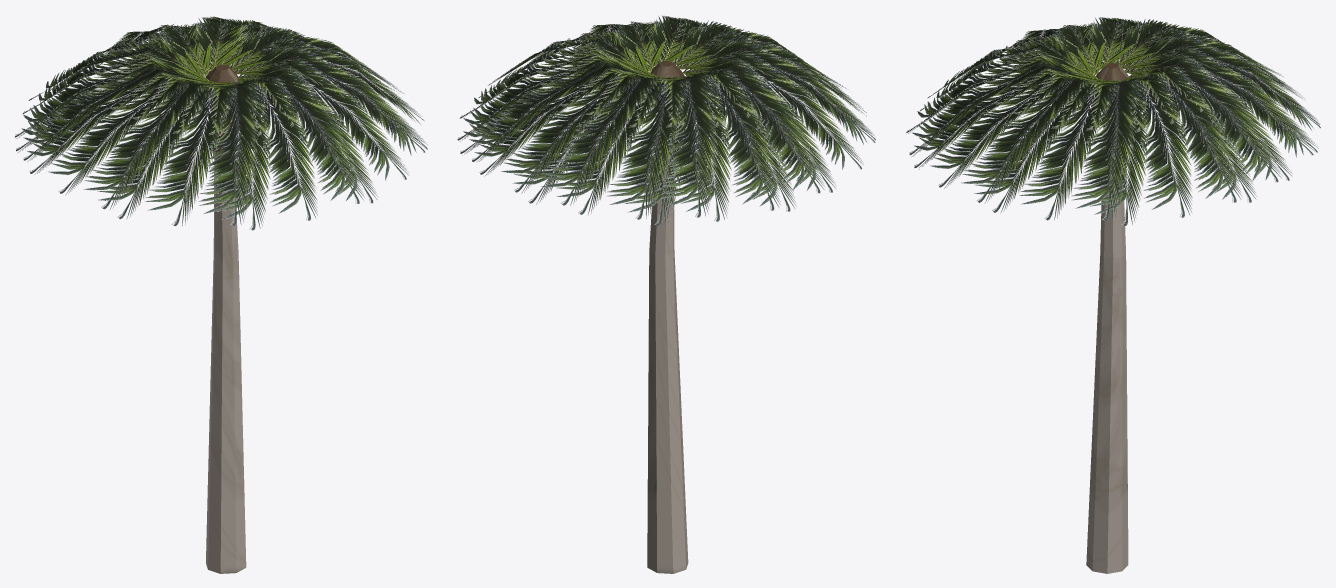
Rendered from palm.gltf.
The picture shows the model from 3 angles, left to right: view 1: azimuth 30°, elevation 25°; view 2: azimuth 150°, elevation 25°; view 3: azimuth 270°, elevation 25°; orthographic projection.
Parts seen in each view (by area): view 1: palm; view 2: palm; view 3: palm.
Boxes of the visible parts, x1,y1,x2,y2 form: palm: (14, 16, 427, 573); palm: (457, 15, 875, 573); palm: (906, 17, 1320, 573).
Size of the model in its own units: 12.98 by 17.88 by 13.
Materials: 2 (2 with a texture image).
